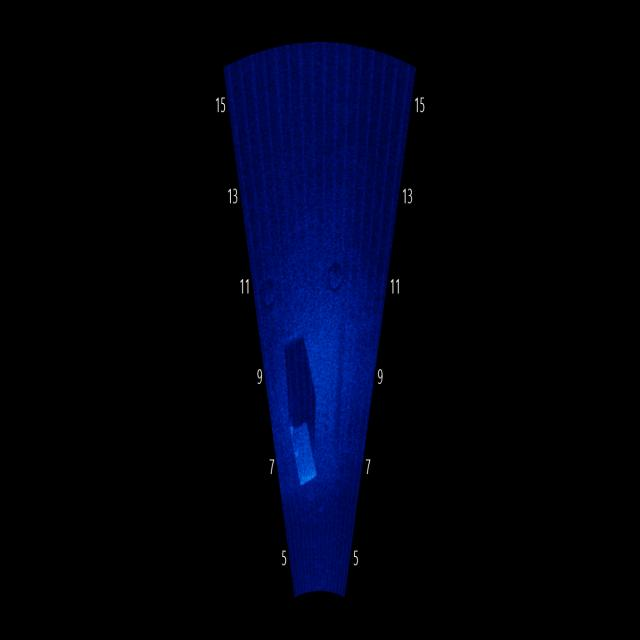square: (283, 400, 327, 514)
